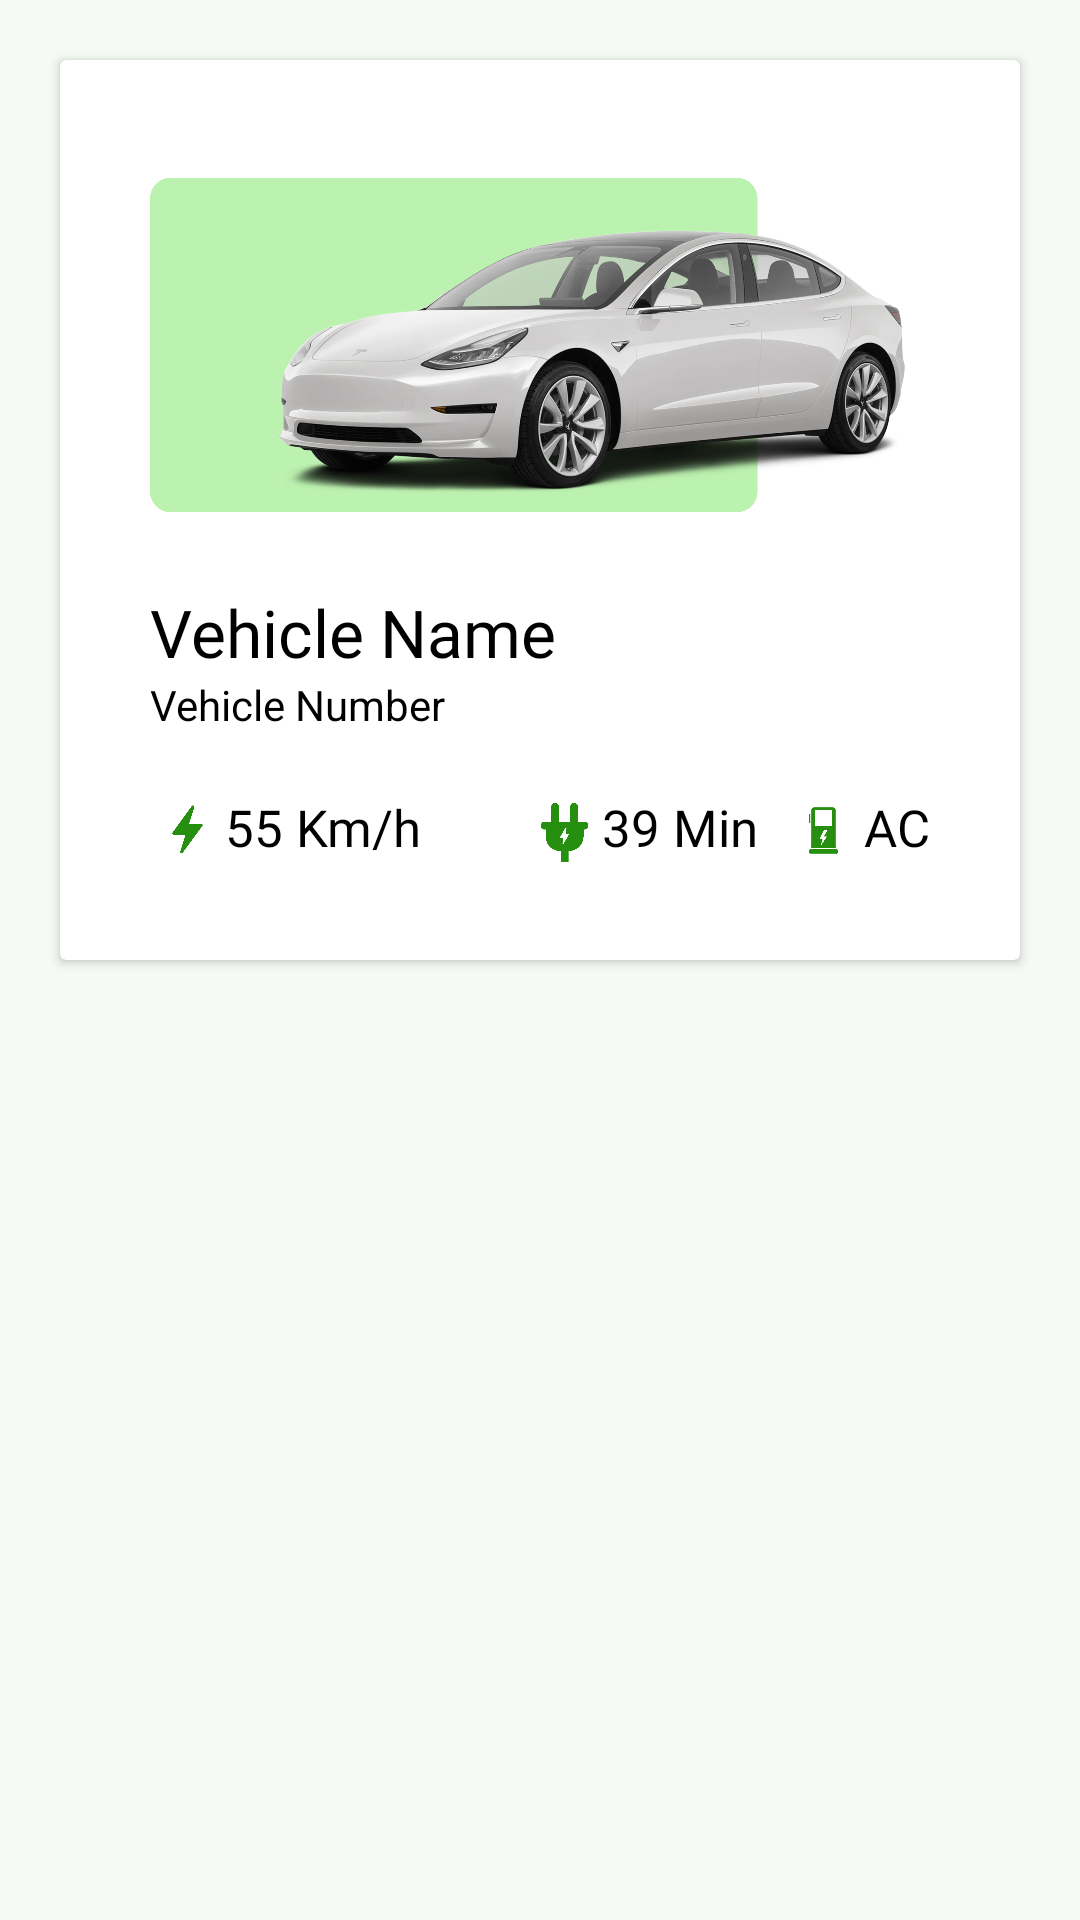

Where to tap for icons on this 1080 × 1920 app screen, as (x,y):
evcharger: (823,830)
plug: (564,832)
power: (187,829)
